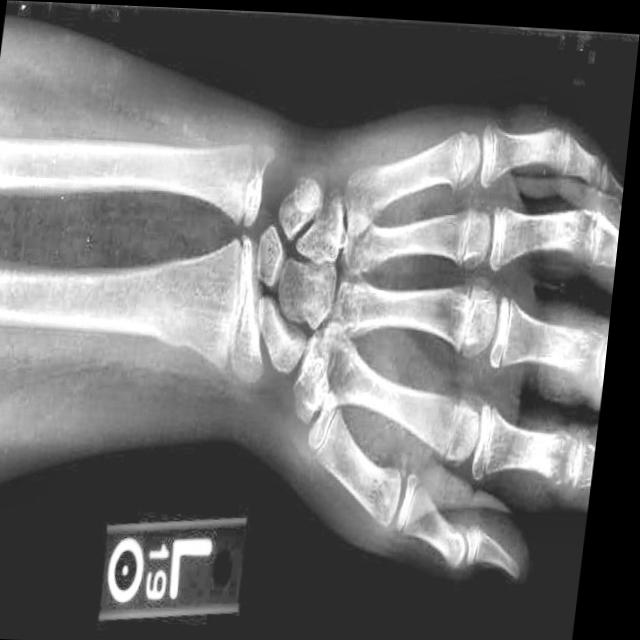fracture: (242, 140, 265, 220), (454, 128, 469, 174)
